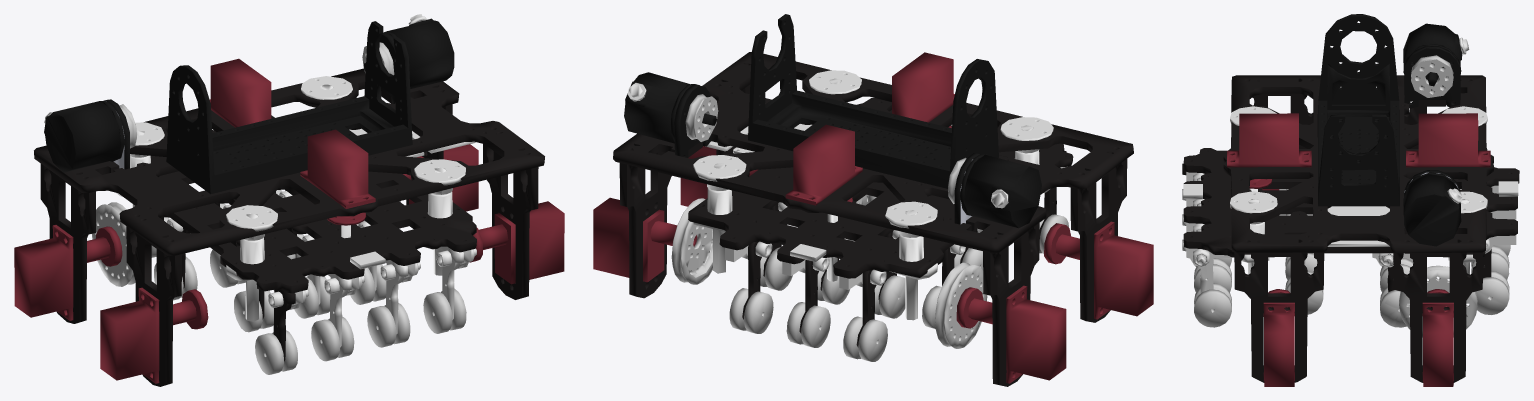
The model's file is Worming-Robot-Base.fbx.
3 renders of one model, left to right at view 1: azimuth 30°, elevation 25°; view 2: azimuth 150°, elevation 25°; view 3: azimuth 270°, elevation 25°, orthographic. The views are drawn at different scales.
Visible parts, largest first — view 1: stitch_result_stitchFBXASC032all_ncl1_271; view 2: stitch_result_stitchFBXASC032all_ncl1_271; view 3: stitch_result_stitchFBXASC032all_ncl1_271.
Boxes of the visible parts, x1,y1,x2,y2 form: stitch_result_stitchFBXASC032all_ncl1_271: (14,14,564,386); stitch_result_stitchFBXASC032all_ncl1_271: (593,14,1153,386); stitch_result_stitchFBXASC032all_ncl1_271: (1182,14,1519,386).
Bounding box in the file's own units: 31.9 × 17.94 × 22.47.
